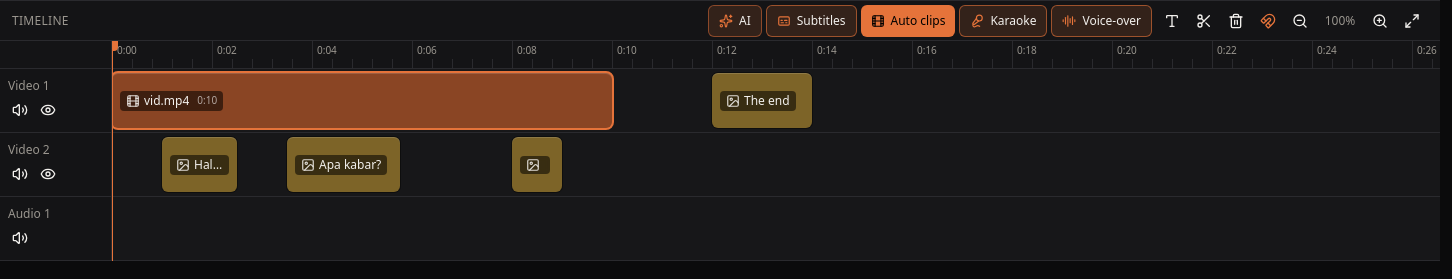
subtitles as .srt › is offered in the menu of a text clip only
Right-click the button "vid.mp4 0:10" at (172, 100), box [112,73,612,128]
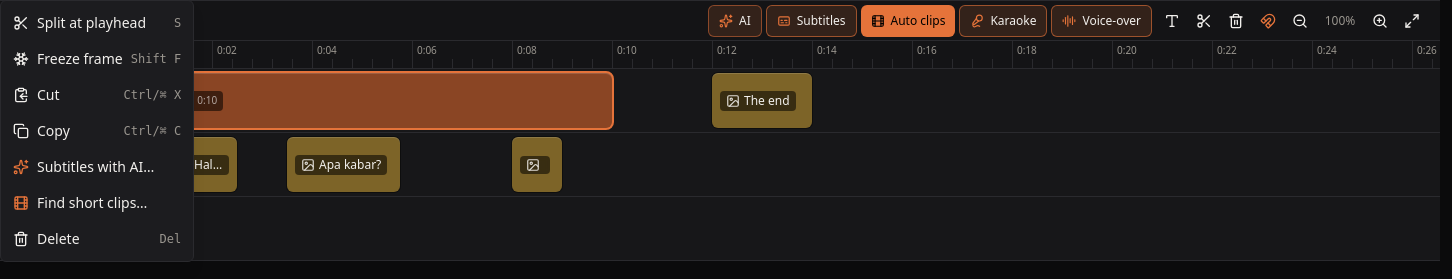
Expected: the menu item "Export subtitles" is not shown
Right-click the button "Halo dunia" at (200, 164), box [162,137,237,192]
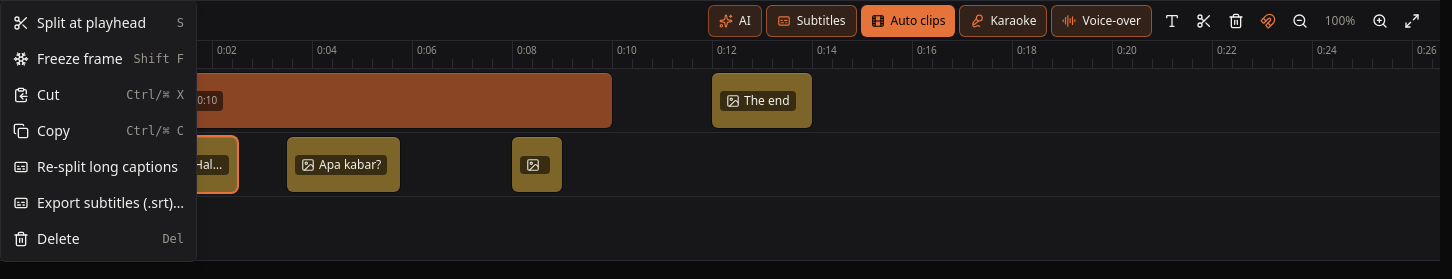
Click the menu item "Export subtitles (.srt)…". click: (99, 203)
box: [5,185,192,221]
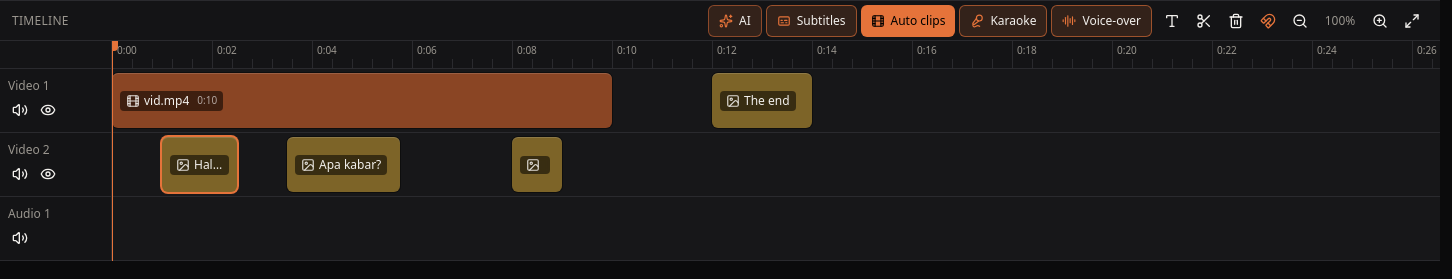
Expected: the menu is gone
